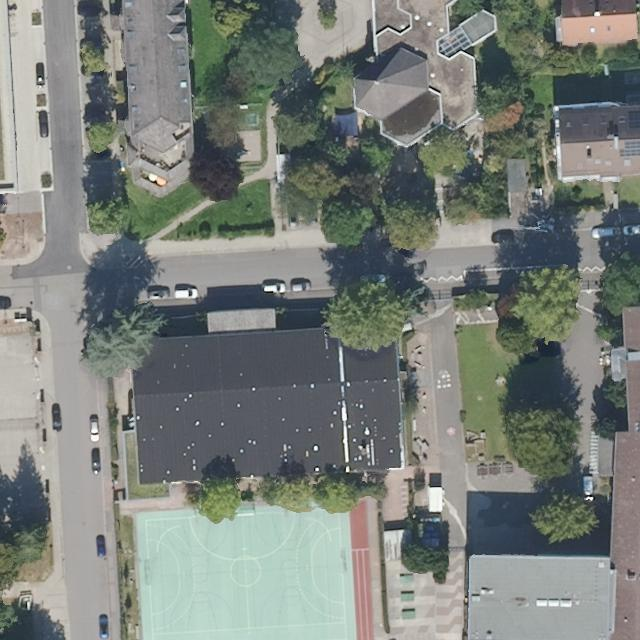PV: (619, 140, 639, 159), (627, 109, 639, 130)
